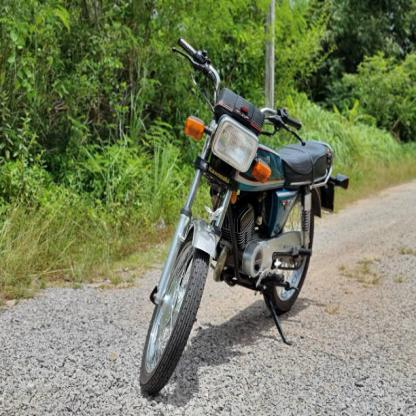Motorcycle: (138, 32, 344, 396)
